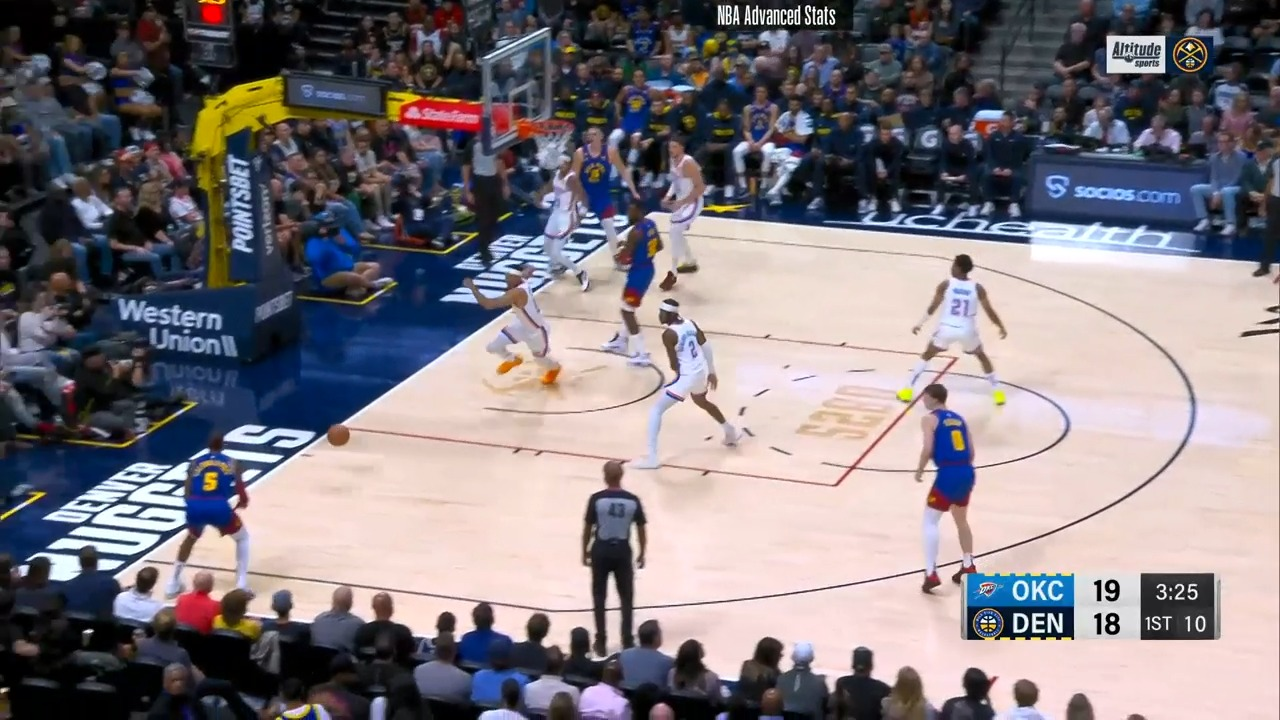net: (516, 111, 580, 168)
player: (634, 299, 748, 472), (909, 379, 995, 601), (903, 251, 1018, 410), (165, 432, 267, 606), (469, 259, 576, 398), (596, 199, 667, 365), (563, 125, 634, 285), (534, 150, 598, 297), (659, 139, 715, 292)
referee: (574, 463, 652, 655), (454, 129, 508, 270), (1252, 138, 1280, 290)
